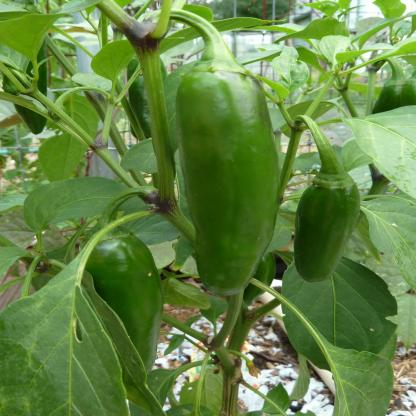--: (167, 5, 286, 298)
